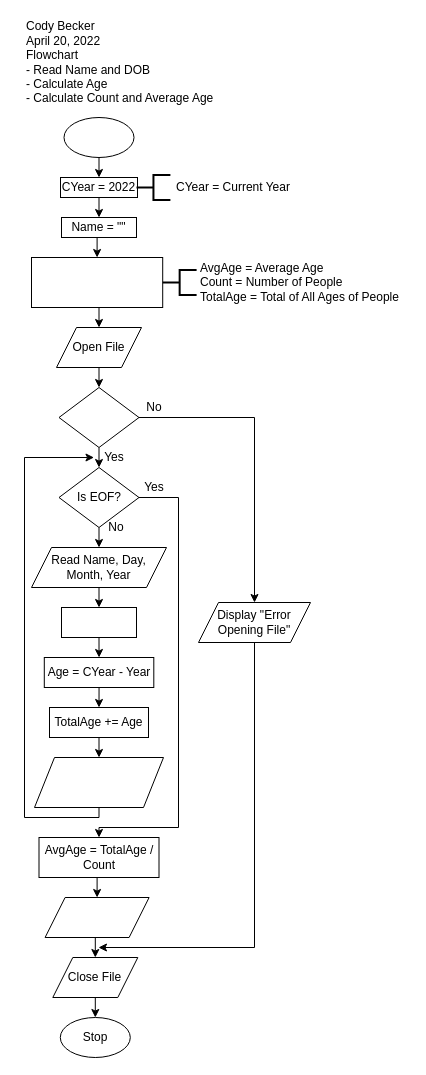
The diagram is 426 pixels wide and 1075 high, and some of its shapes have lost their labels. The box of each missing label's shape, as (x1, y1, x2, y2) in pixels:
Count += 1: (60, 606, 136, 638)
Day, Month, Year, Age, AvgAge, Count, TotalAge = 0: (30, 256, 163, 308)
File Open Ok: (58, 386, 139, 448)
Print Count, AvgAge: (44, 896, 149, 938)
Print Name, Month, Day, Year, Age: (34, 756, 164, 808)
Start: (63, 116, 134, 158)
